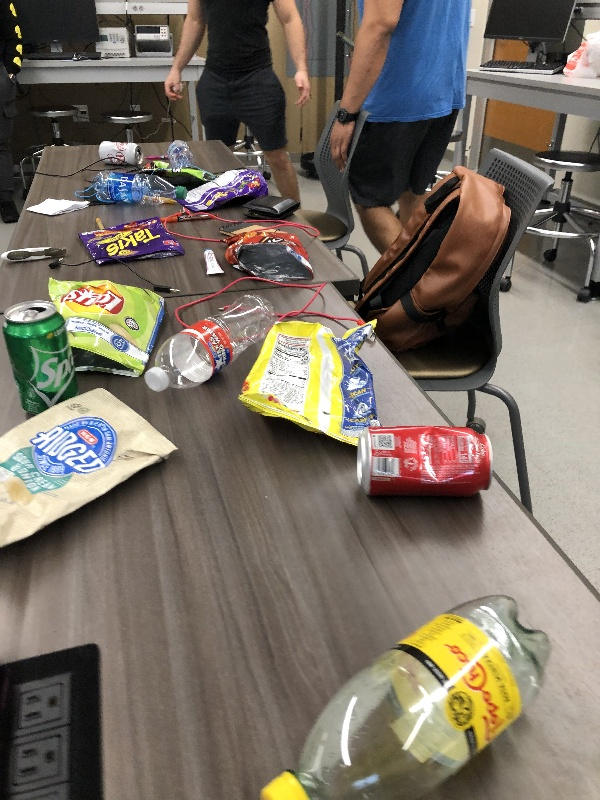bag: (1, 382, 184, 556), (234, 315, 398, 451), (42, 275, 174, 377), (218, 221, 318, 289), (72, 216, 189, 269), (180, 166, 273, 217), (140, 160, 214, 181)
bottle: (258, 589, 567, 800), (142, 292, 279, 394), (89, 170, 191, 210), (164, 137, 197, 166)
can: (353, 423, 498, 500), (1, 298, 94, 415), (95, 139, 143, 168)
